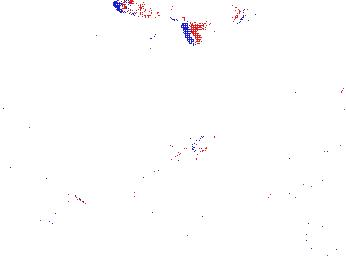X-ray fish: (154, 124, 175, 163)
glassfish: (115, 133, 216, 210)
redtail glassfish: (114, 2, 201, 45), (231, 2, 265, 27), (149, 33, 164, 60)
